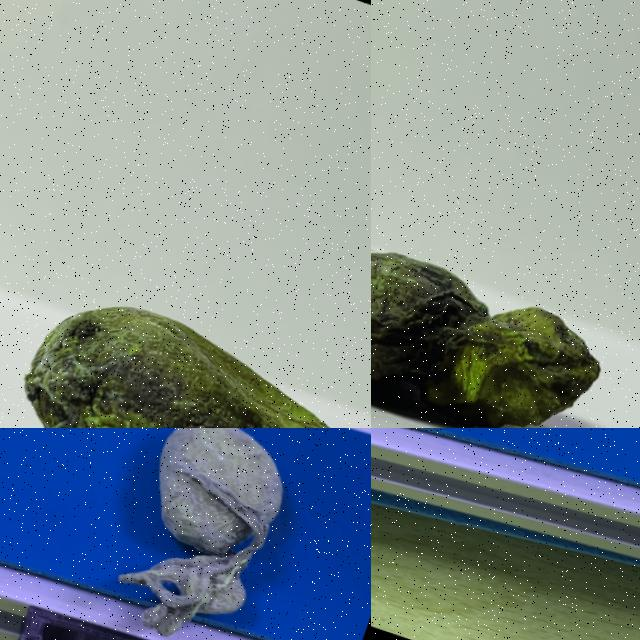Agglomerated_cocoabeans: (0, 428, 370, 639), (371, 153, 639, 427)
Fine_cocoabeans: (0, 225, 370, 427), (563, 428, 639, 594)
